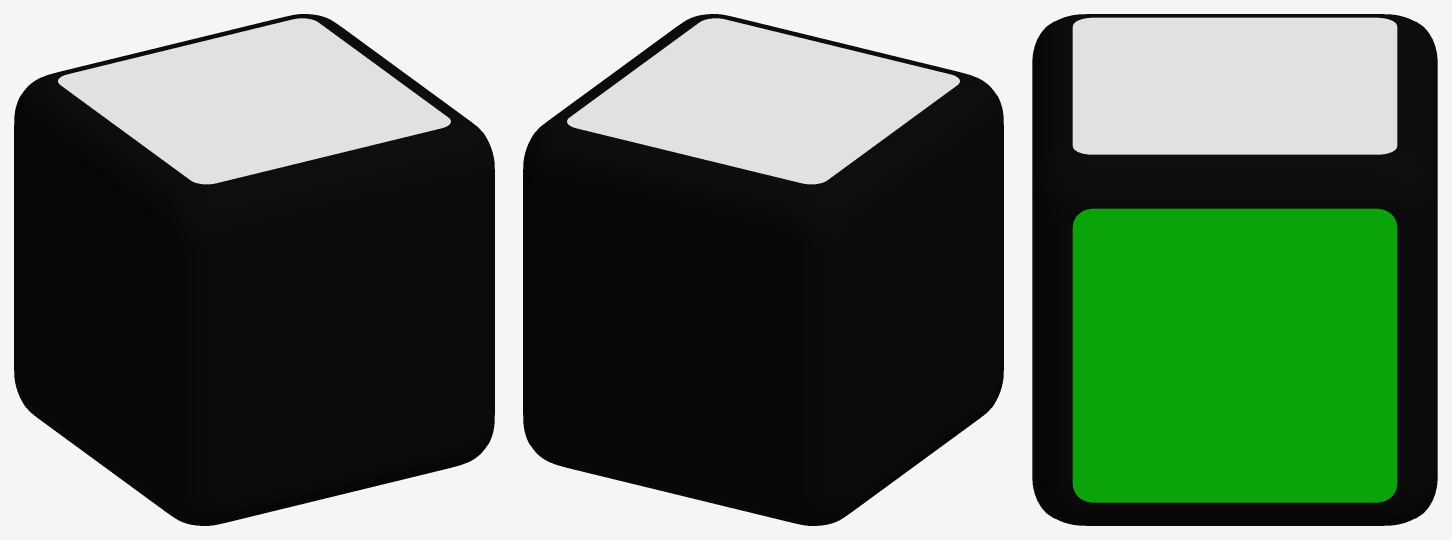
The picture shows the model from 3 angles, left to right: view 1: azimuth 30°, elevation 25°; view 2: azimuth 150°, elevation 25°; view 3: azimuth 270°, elevation 25°; orthographic projection. The views are drawn at different scales.
Parts seen in each view (by area): view 1: gw; view 2: gw; view 3: gw.
Boxes of the visible parts, x1,y1,x2,y2 form: gw: (14,14,494,525); gw: (523,14,1003,525); gw: (1032,14,1437,525).
Size of the model in its own units: 100 by 100 by 100.
